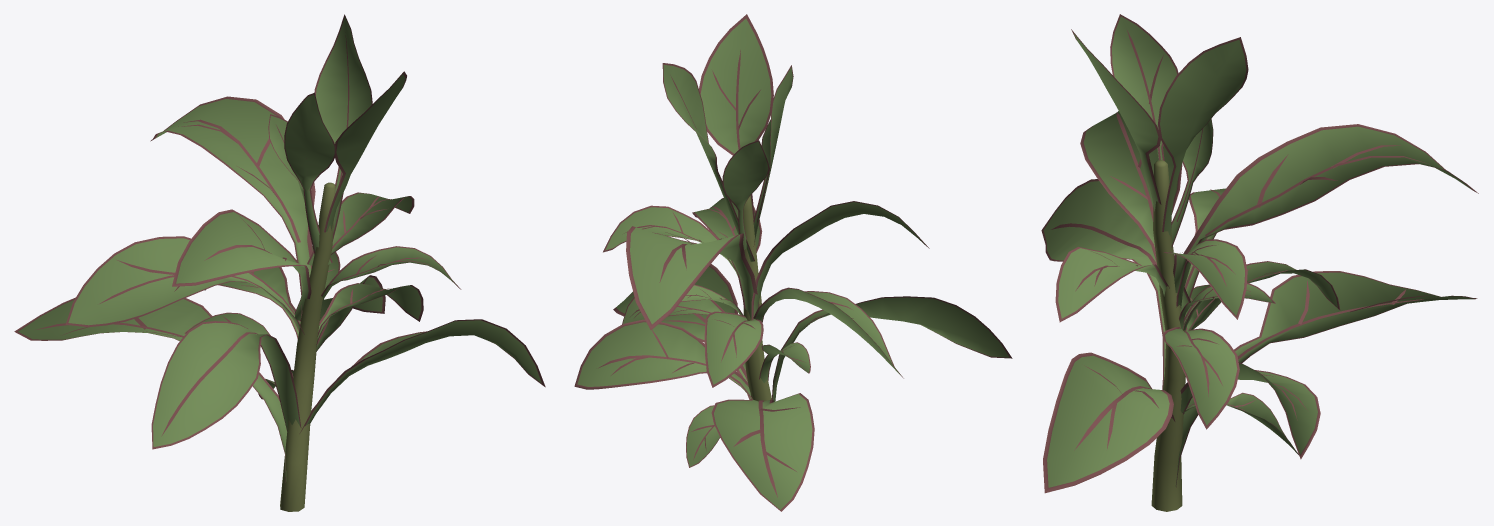
The model's file is Mesh_Room_Bonsai_02.fbx.
3 renders of one model, left to right at view 1: azimuth 30°, elevation 25°; view 2: azimuth 150°, elevation 25°; view 3: azimuth 270°, elevation 25°, orthographic. The views are drawn at different scales.
Visible parts, largest first — view 1: Mesh_Room_Bonsai_02; view 2: Mesh_Room_Bonsai_02; view 3: Mesh_Room_Bonsai_02.
Boxes of the visible parts, x1,y1,x2,y2 form: Mesh_Room_Bonsai_02: (14, 14, 545, 511); Mesh_Room_Bonsai_02: (574, 14, 1012, 511); Mesh_Room_Bonsai_02: (1041, 14, 1478, 511).
Bounding box in the file's own units: 86.94 × 94.51 × 72.57.
1 material, 1 textured.
